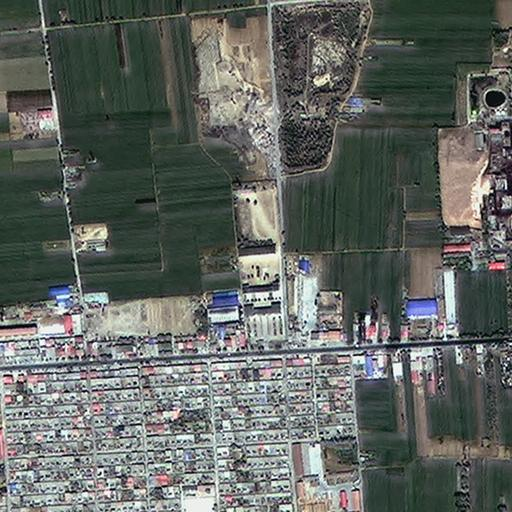school: (233, 180, 284, 342)
